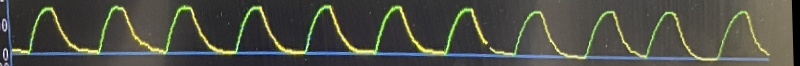normal_volume: (5, 0, 778, 63)
